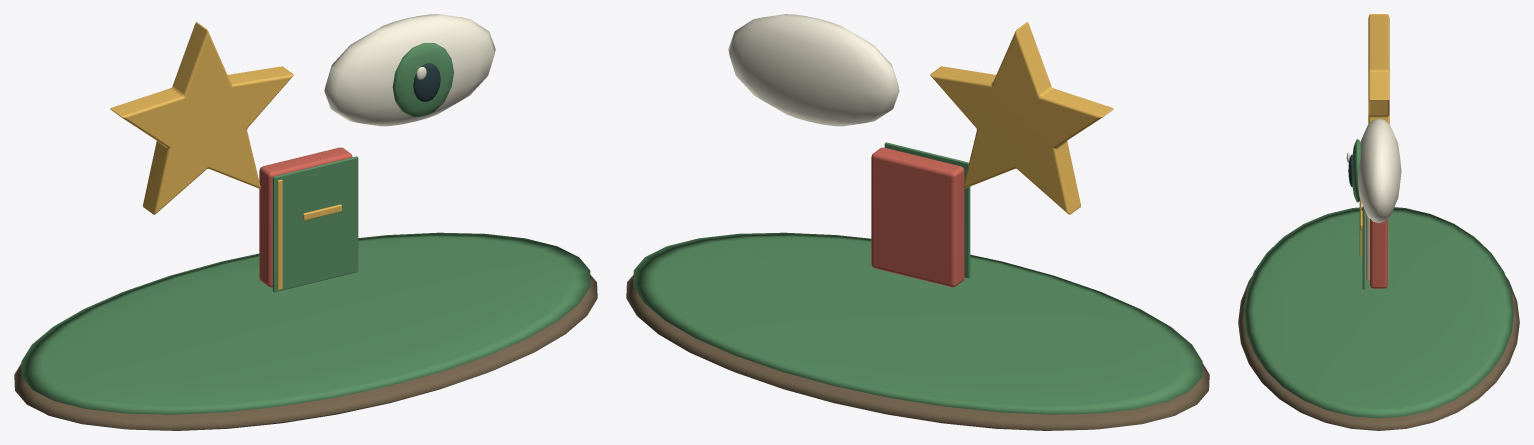
File: complete-second-excited-interest.glb
3 renders of one model, left to right at view 1: azimuth 30°, elevation 25°; view 2: azimuth 150°, elevation 25°; view 3: azimuth 270°, elevation 25°, orthographic. The views are drawn at different scales.
Visible parts, largest first — view 1: complete-second-excited-interest_surface_01, complete-second-excited-interest_surface_02, complete-second-excited-interest_surface_03, complete-second-excited-interest_surface_00, complete-second-excited-interest_surface_05, complete-second-excited-interest_surface_04; view 2: complete-second-excited-interest_surface_01, complete-second-excited-interest_surface_02, complete-second-excited-interest_surface_03, complete-second-excited-interest_surface_05, complete-second-excited-interest_surface_00; view 3: complete-second-excited-interest_surface_01, complete-second-excited-interest_surface_00, complete-second-excited-interest_surface_03, complete-second-excited-interest_surface_02, complete-second-excited-interest_surface_05, complete-second-excited-interest_surface_06.
Part boxes in pixels (x1,y1,x2,y2): complete-second-excited-interest_surface_01: (21,43,590,414); complete-second-excited-interest_surface_02: (110,22,341,290); complete-second-excited-interest_surface_03: (324,14,495,126); complete-second-excited-interest_surface_00: (14,275,597,430); complete-second-excited-interest_surface_05: (259,147,352,287); complete-second-excited-interest_surface_04: (413,63,440,101); complete-second-excited-interest_surface_01: (633,142,1202,414); complete-second-excited-interest_surface_02: (930,22,1113,214); complete-second-excited-interest_surface_03: (728,14,899,126); complete-second-excited-interest_surface_05: (871,147,964,287); complete-second-excited-interest_surface_00: (626,275,1209,430); complete-second-excited-interest_surface_01: (1243,139,1514,418); complete-second-excited-interest_surface_00: (1238,277,1519,430); complete-second-excited-interest_surface_03: (1346,118,1401,223); complete-second-excited-interest_surface_02: (1359,14,1389,257); complete-second-excited-interest_surface_05: (1370,219,1387,288); complete-second-excited-interest_surface_06: (1365,212,1369,281).
Bounding box in the file's own units: 4.56 × 2.75 × 2.5.
